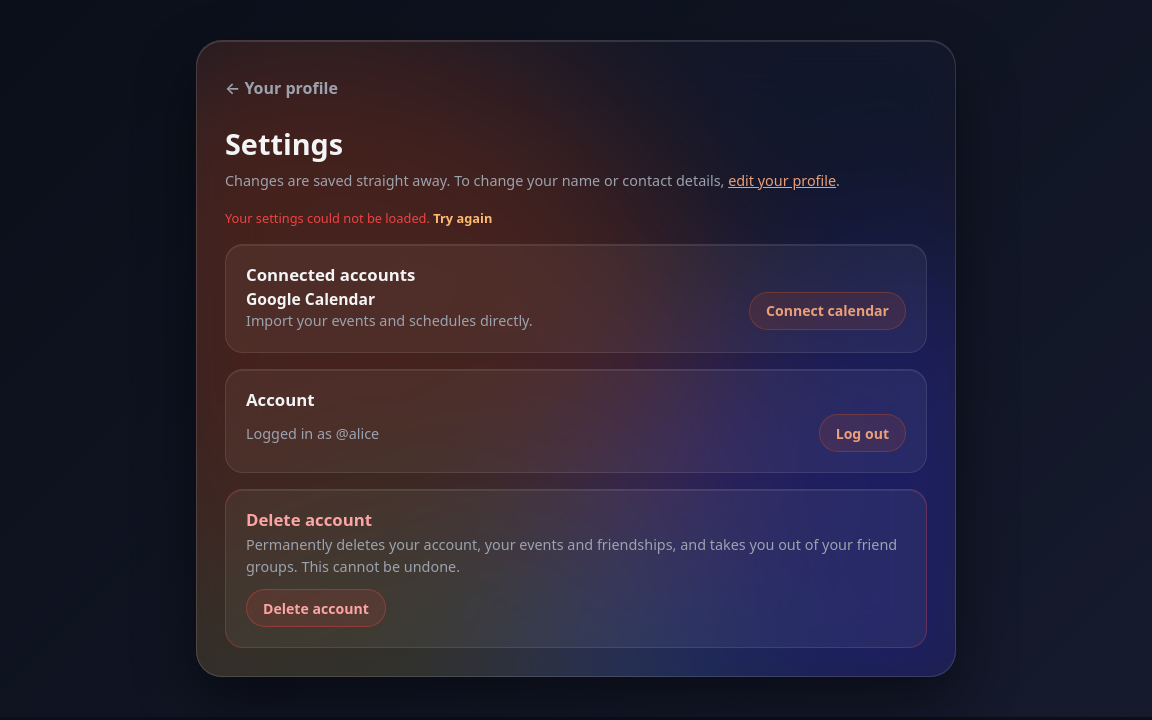
Test: settings that fail to load can be tried again; Google Calendar and deleting still work
Expected: the text "Your settings could not be loaded. Try again" is shown, [225, 209, 492, 228]
Expected: the button "Connect calendar" is shown, [749, 292, 906, 330]
Click the button "Try again" at (463, 219), box [433, 209, 492, 228]
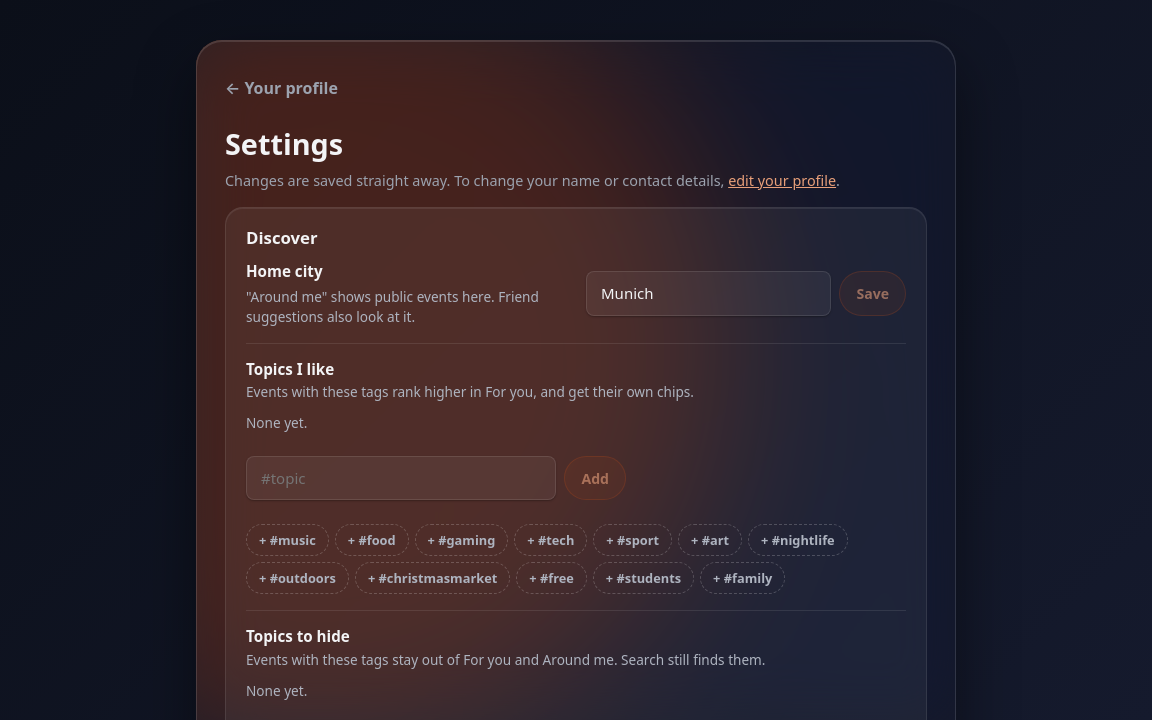
Now the heading "Discover" is shown, box [246, 228, 318, 248]
